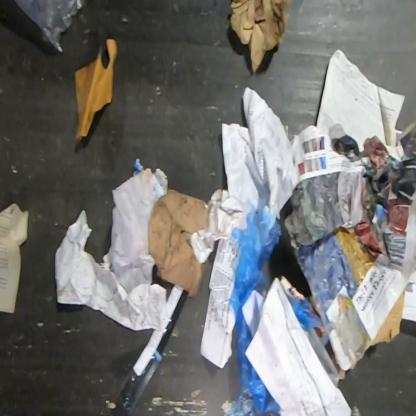cardboard: (148, 189, 209, 297), (74, 39, 119, 142), (230, 0, 292, 74), (365, 290, 405, 351), (329, 352, 346, 380)
rigid_plastic: (113, 284, 188, 416)
soft_plastic: (225, 178, 286, 415), (14, 0, 86, 54), (287, 295, 325, 332)
